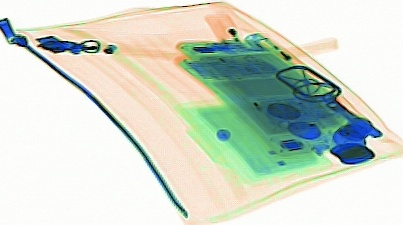lighter: (243, 29, 313, 84), (200, 6, 259, 69)
